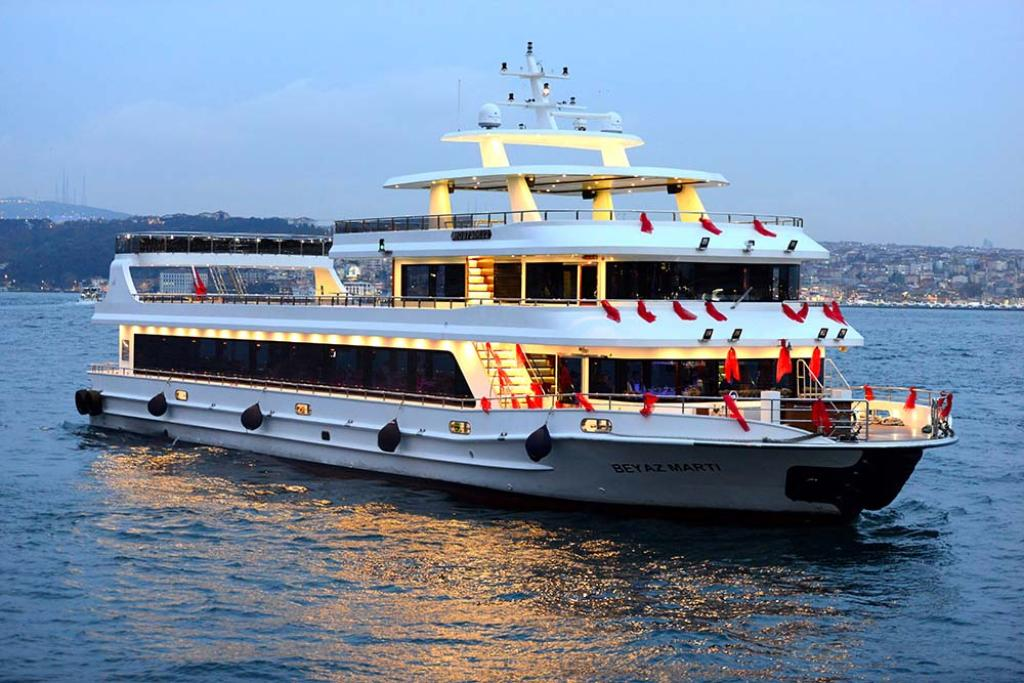PassengerShip: (74, 61, 966, 488)
